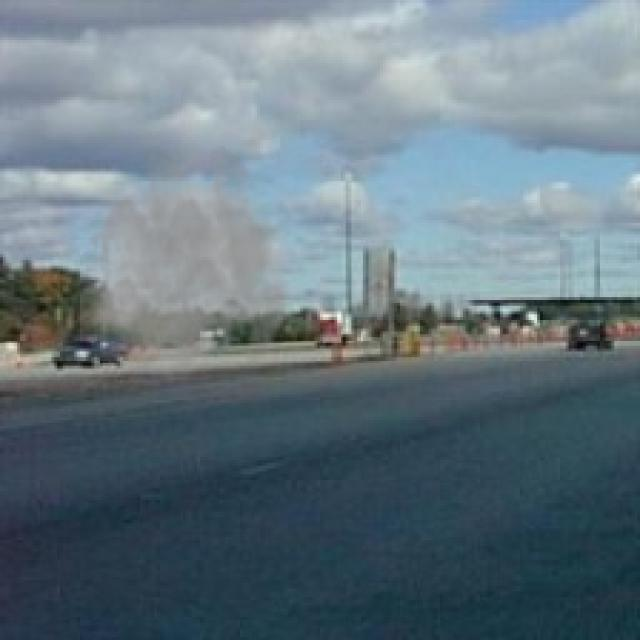Smoke: (80, 140, 306, 389)
